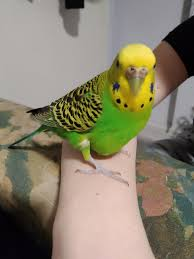budgie: (8, 40, 163, 179)
